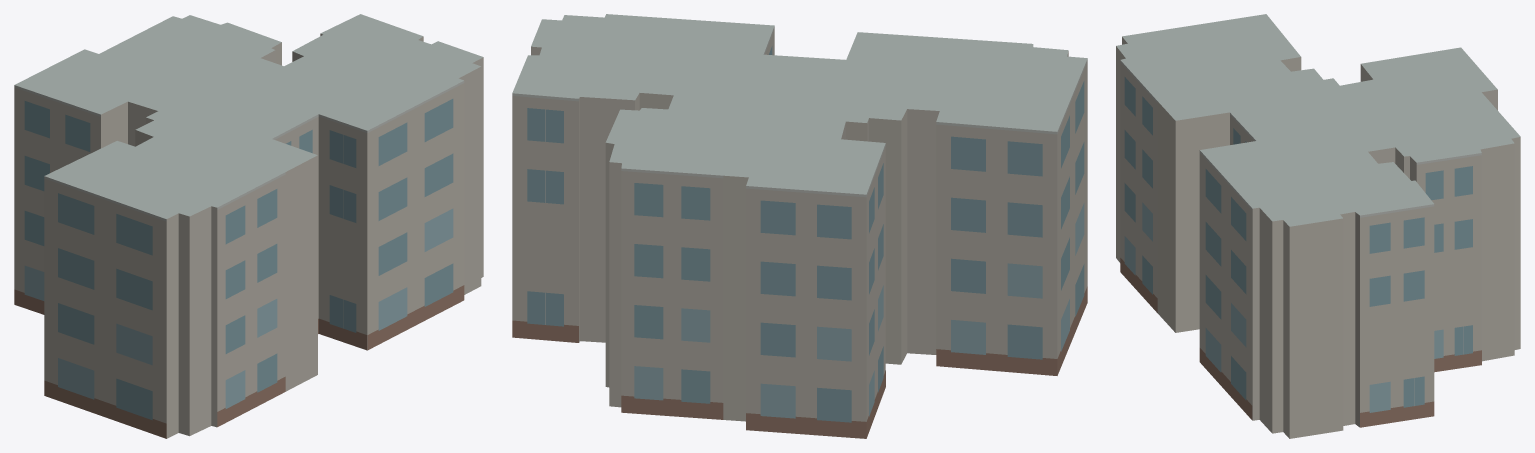
The model's file is survey-upis-32865930.glb.
3 views of the same model, side by side, from view 1: azimuth 30°, elevation 25°; view 2: azimuth 150°, elevation 25°; view 3: azimuth 270°, elevation 25° (orthographic). The views are drawn at different scales.
Parts seen in each view (by area): view 1: survey-upis-32865930.tmp; view 2: survey-upis-32865930.tmp; view 3: survey-upis-32865930.tmp.
Part boxes in pixels (box(x1,y1,x2,y2)): survey-upis-32865930.tmp: box(14, 14, 483, 438); survey-upis-32865930.tmp: box(512, 14, 1087, 438); survey-upis-32865930.tmp: box(1116, 14, 1520, 438).
Bounding box in the file's own units: 49.37 × 22.95 × 39.68.
